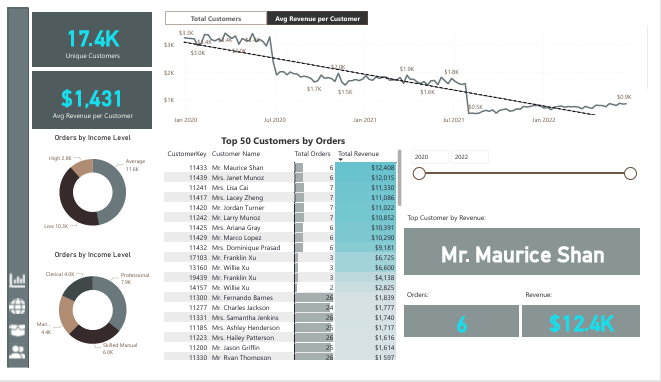

What the dashboard file says about the page in this screenshot:
{"tool":"powerbi","page":{"name":"Customer Details","canvas":[1280,720],"ordinal":3},"visuals":[{"type":"card","fields":{"Values":["_Measure Table.Total Customers"]},"box":[50.1,9,239.1,110.1],"z":0},{"type":"shape","box":[0,0,41,720],"z":1000},{"type":"card","fields":{"Values":["_Measure Table.Avg Revenue per Customer"]},"box":[50.1,127.2,239.1,114.6],"z":2000},{"type":"donutChart","title":"Orders by Income Level","fields":{"Category":["Customer Lookup.Income Level"],"Y":["_Measure Table.Total Orders"]},"box":[50.1,251.6,239.1,217.6],"z":3000},{"type":"donutChart","title":"Orders by Income Level","fields":{"Y":["_Measure Table.Total Orders"],"Category":["Customer Lookup.Occupation"]},"box":[50.1,485.4,239.1,222.1],"z":4000},{"type":"tableEx","title":"Top 50 Customers by Orders","fields":{"Values":["Customer Lookup.CustomerKey","Customer Lookup.Customer Name","_Measure Table.Total Orders","_Measure Table.Total Revenue"]},"box":[307.5,251.7,485.8,455.8],"z":5000},{"type":"lineChart","fields":{"Y":["_Measure Table.Avg Revenue per Customer"],"Category":["Calendar Lookup.Start of Week"]},"box":[307.3,31.8,959.1,210],"z":6000},{"type":"slicer","fields":{"Values":["Customer Metric Selection.Customer Metric Selection"]},"box":[289.1,0,454.5,38.2],"z":7000},{"type":"card","fields":{"Values":["Customer Lookup.Customer Name"]},"box":[793.6,441.8,472.7,93.6],"z":8000},{"type":"textbox","box":[793.6,406.4,254.5,35.5],"z":9000},{"type":"card","fields":{"Values":["_Measure Table.Total Orders"]},"box":[792.7,596.4,229.1,62.7],"z":10000},{"type":"card","fields":{"Values":["_Measure Table.Total Revenue"]},"box":[1030,595.5,236.4,62.7],"z":11000},{"type":"textbox","box":[792.7,560,105.5,35.5],"z":12000},{"type":"textbox","box":[1030,560,105.5,35.5],"z":13000},{"type":"slicer","fields":{"Values":["Calendar Lookup.Year"]},"box":[793.6,274.5,472.7,96.4],"z":14000},{"type":"group","id":"g1","title":"Page Navigation Icon","box":[0,525.5,40.9,182.7],"z":15000},{"type":"actionButton","box":[0,525.5,40.9,40],"z":21000,"group":"g1"},{"type":"actionButton","box":[0,578.2,40.9,40],"z":22000,"group":"g1"},{"type":"actionButton","box":[0,625.5,40.9,40],"z":23000,"group":"g1"},{"type":"actionButton","box":[0,668.2,40.9,40],"z":24000,"group":"g1"}]}

Visuals, with their boxes on the page's 1280x720 design canvas (x1, y1, x2, y2). These are canvas units, not pixel positions in the 661x382 screenshot, which may show the page scaled, cropped or inside an application window:
card - _Measure Table.Total Customers: [50, 9, 289, 119]
shape: [0, 0, 41, 720]
card - _Measure Table.Avg Revenue per Customer: [50, 127, 289, 242]
"Orders by Income Level" donutChart: [50, 252, 289, 469]
"Orders by Income Level" donutChart: [50, 485, 289, 708]
"Top 50 Customers by Orders" tableEx: [308, 252, 793, 708]
lineChart - _Measure Table.Avg Revenue per Customer x Calendar Lookup.Start of Week: [307, 32, 1266, 242]
slicer - Customer Metric Selection.Customer Metric Selection: [289, 0, 744, 38]
card - Customer Lookup.Customer Name: [794, 442, 1266, 535]
textbox: [794, 406, 1048, 442]
card - _Measure Table.Total Orders: [793, 596, 1022, 659]
card - _Measure Table.Total Revenue: [1030, 596, 1266, 658]
textbox: [793, 560, 898, 596]
textbox: [1030, 560, 1136, 596]
slicer - Calendar Lookup.Year: [794, 274, 1266, 371]
"Page Navigation Icon" group: [0, 526, 41, 708]
actionButton: [0, 526, 41, 566]
actionButton: [0, 578, 41, 618]
actionButton: [0, 626, 41, 666]
actionButton: [0, 668, 41, 708]
